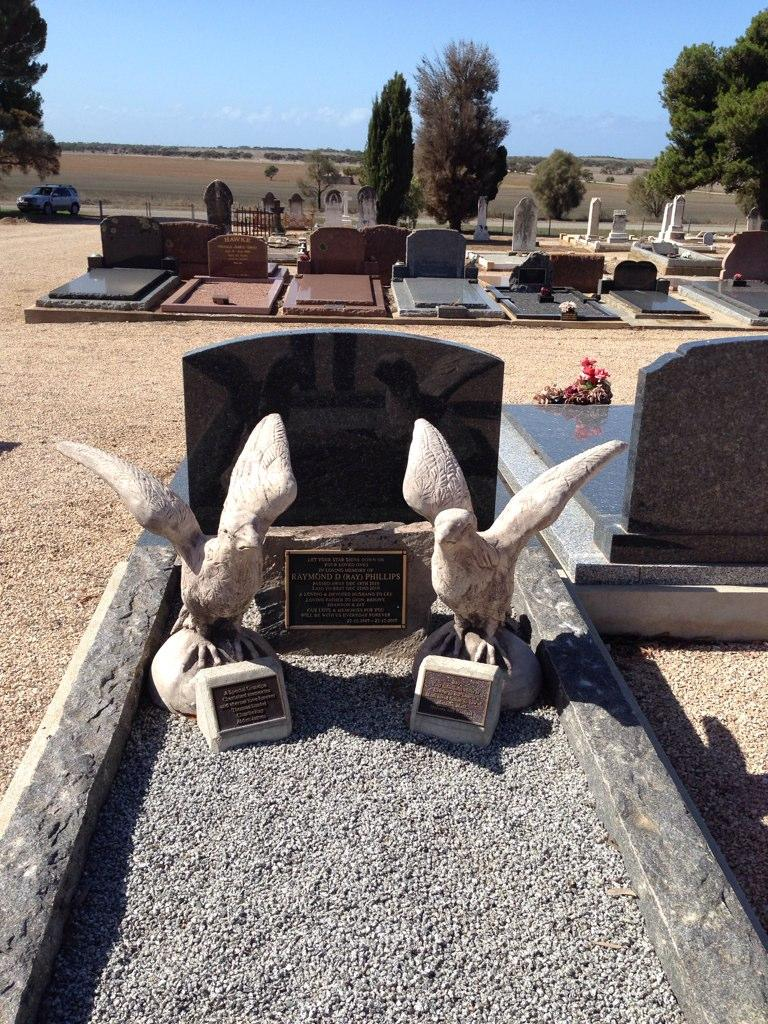vault: (0, 324, 755, 1024)
